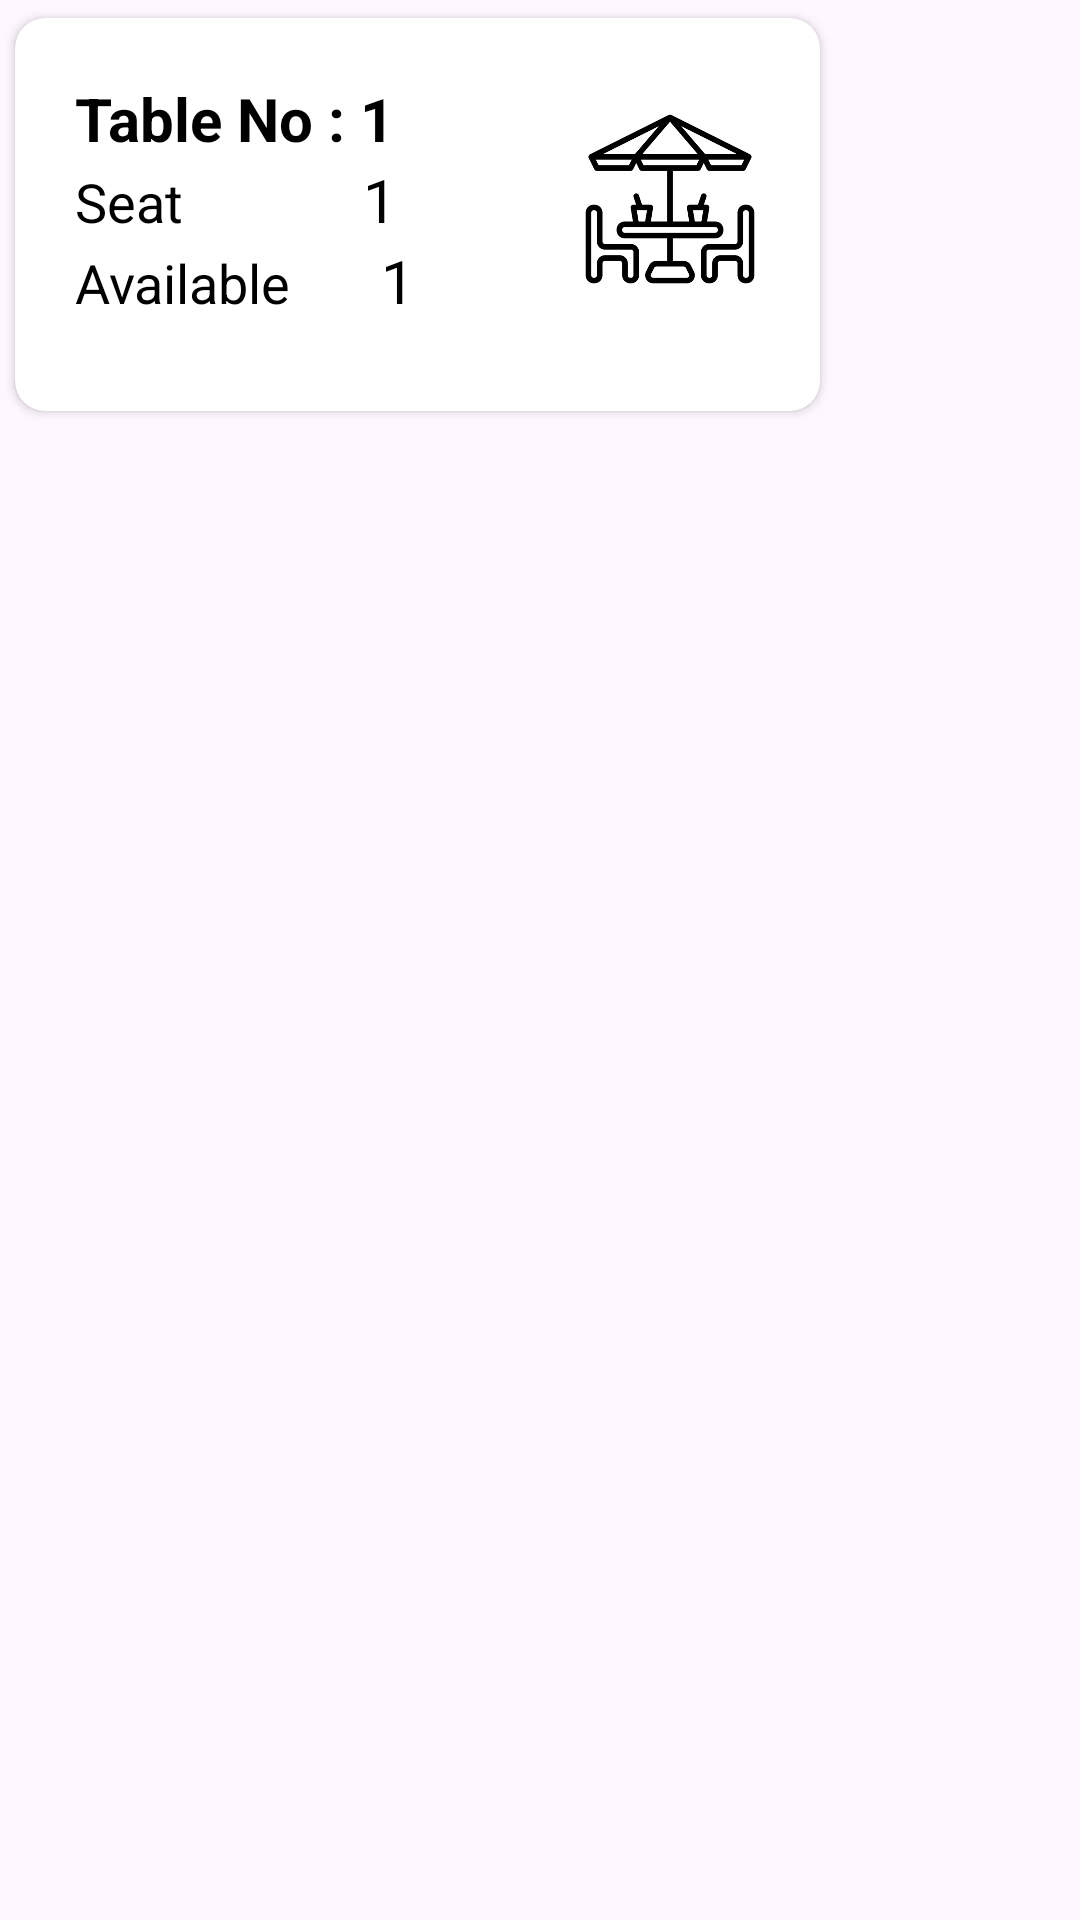

Where to tap for icons on this 1080px x 1920px app screen, as point (x, y):
table: point (670, 199)
